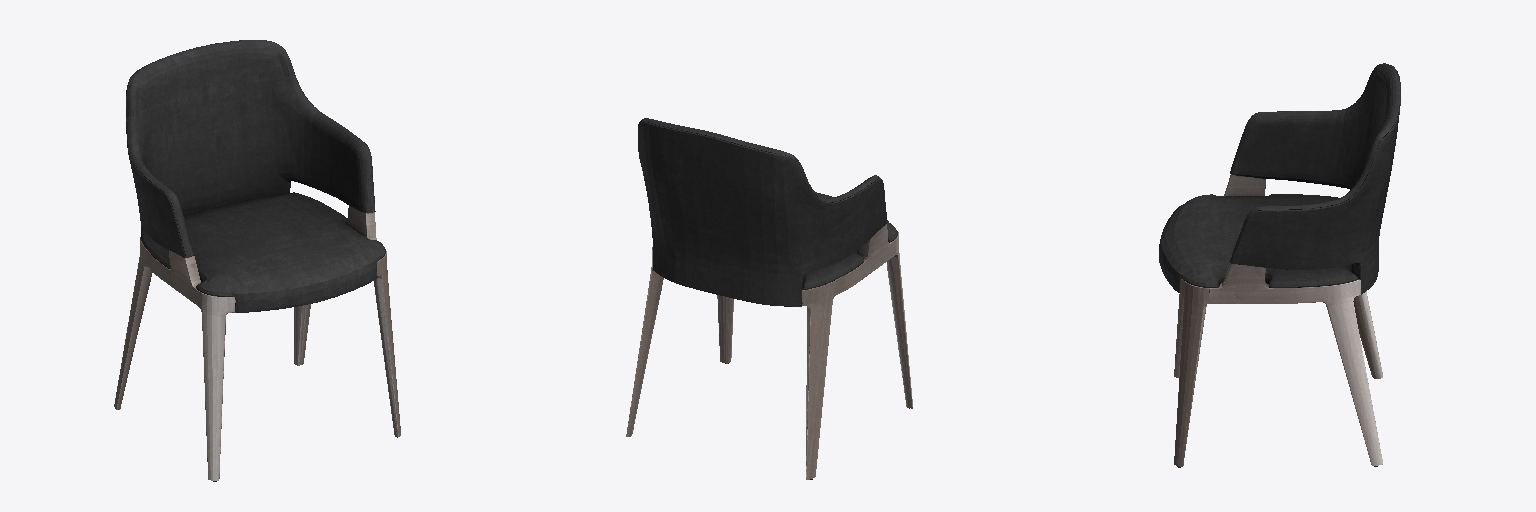
The picture shows the model from 3 angles: view 1: azimuth 30°, elevation 25°; view 2: azimuth 150°, elevation 25°; view 3: azimuth 270°, elevation 25°; orthographic projection.
Visible parts, largest first — view 1: solid_003, solid_002; view 2: solid_003, solid_002; view 3: solid_003, solid_002.
Boxes of the visible parts, <box> form: solid_003: <box>126,40,385,312</box>; solid_002: <box>114,206,400,480</box>; solid_003: <box>638,118,897,306</box>; solid_002: <box>626,224,912,479</box>; solid_003: <box>1159,63,1400,294</box>; solid_002: <box>1174,174,1382,466</box>.
Bounding box in the file's own units: 0.9423 × 1.47 × 0.9727.
1 materials, 1 textured.